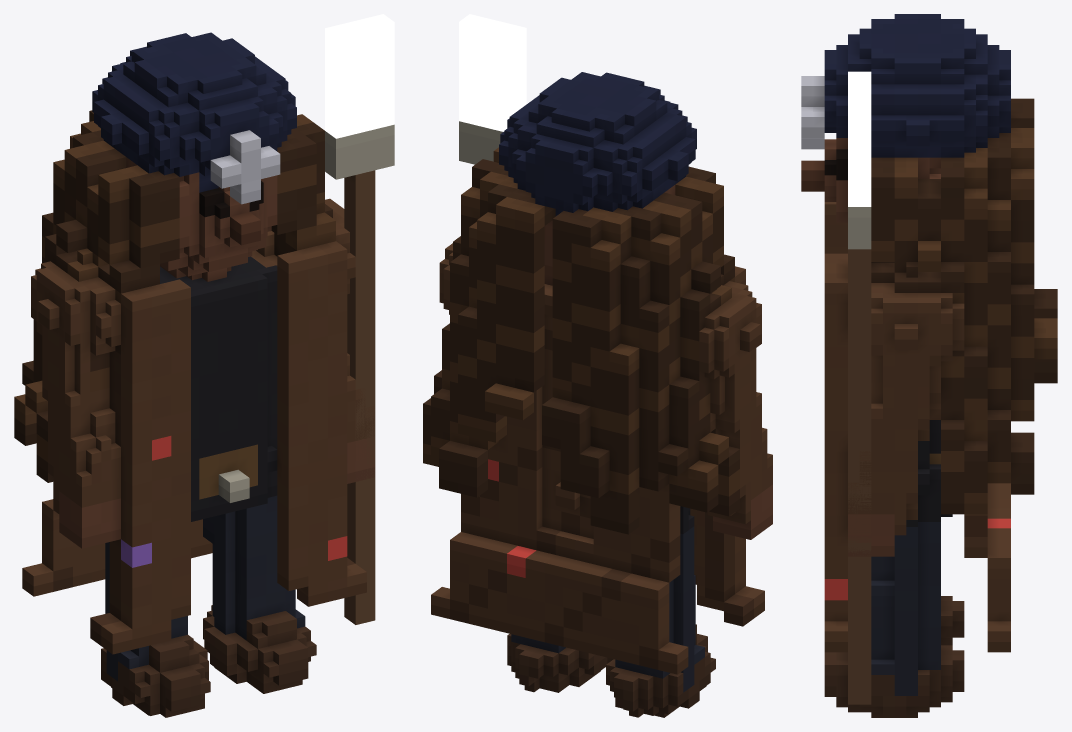
File: u_tidiane.glb
3 views of the same model, side by side, from view 1: azimuth 30°, elevation 25°; view 2: azimuth 150°, elevation 25°; view 3: azimuth 270°, elevation 25° (orthographic). The views are drawn at different scales.
Parts seen in each view (by area): view 1: tidiane_body, tidiane_weapon, tidiane_weaponglow; view 2: tidiane_body, tidiane_weaponglow, tidiane_weapon; view 3: tidiane_body, tidiane_weapon, tidiane_weaponglow.
Boxes of the visible parts, x1,y1,x2,y2 form: tidiane_body: (14, 32, 375, 717); tidiane_weapon: (325, 124, 394, 624); tidiane_weaponglow: (325, 14, 394, 138); tidiane_body: (423, 72, 772, 717); tidiane_weaponglow: (459, 14, 526, 131); tidiane_weapon: (459, 121, 502, 164); tidiane_body: (801, 14, 1057, 717); tidiane_weapon: (848, 207, 871, 704); tidiane_weaponglow: (848, 71, 871, 206).
Size of the model in its own units: 0.825 by 1.57 by 0.55.
